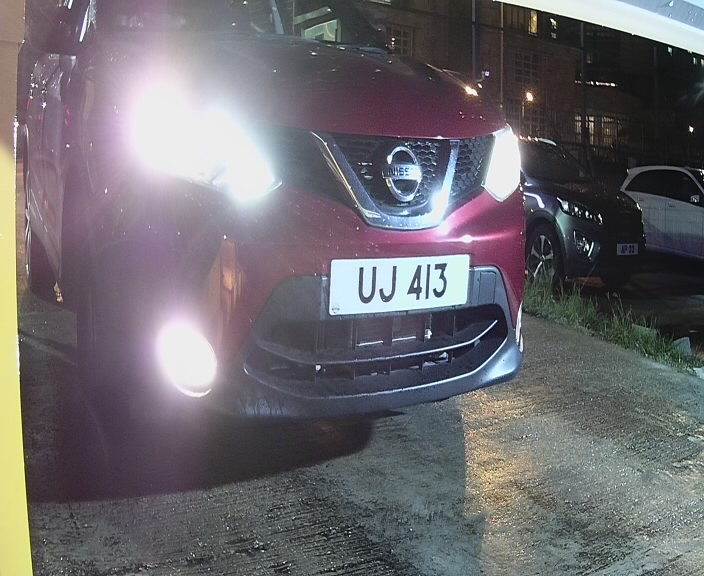License Plate: (305, 249, 483, 327)
